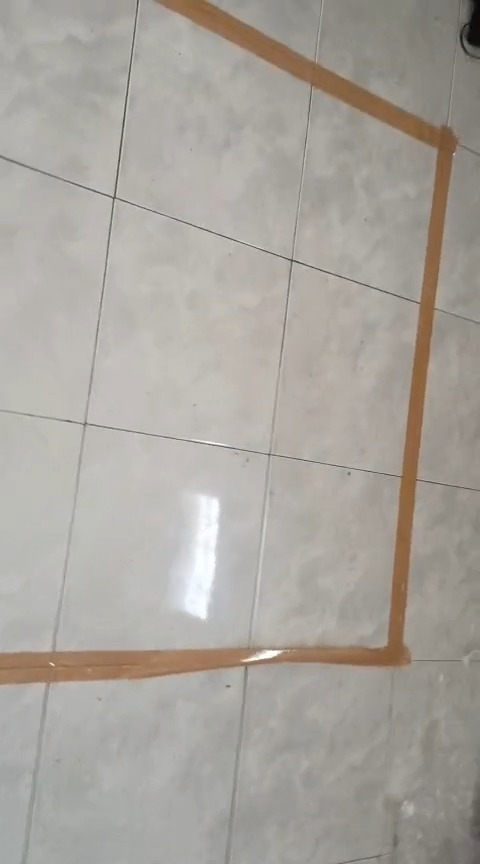floor marking: (0, 0, 456, 684)
